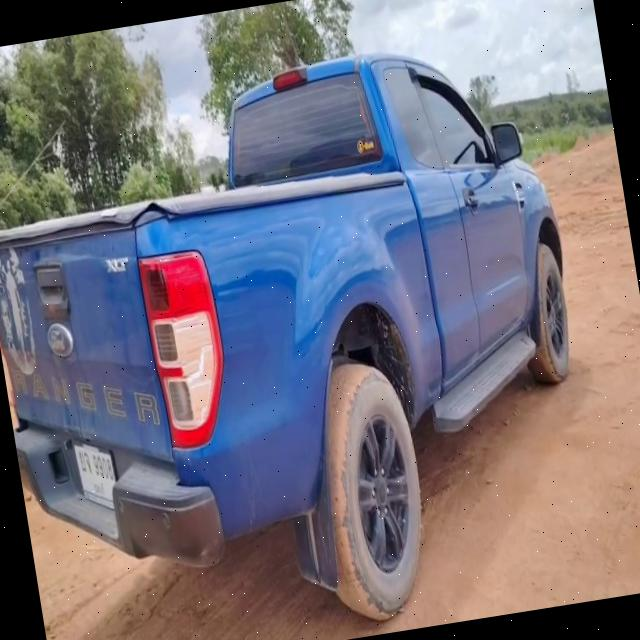Digit: (92, 453, 116, 482)
Licenseplate: (71, 442, 123, 512)
Provincename: (91, 479, 108, 500)
Thaichar: (78, 449, 92, 473)
